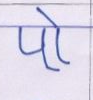e_matra: (36, 7, 60, 25)
